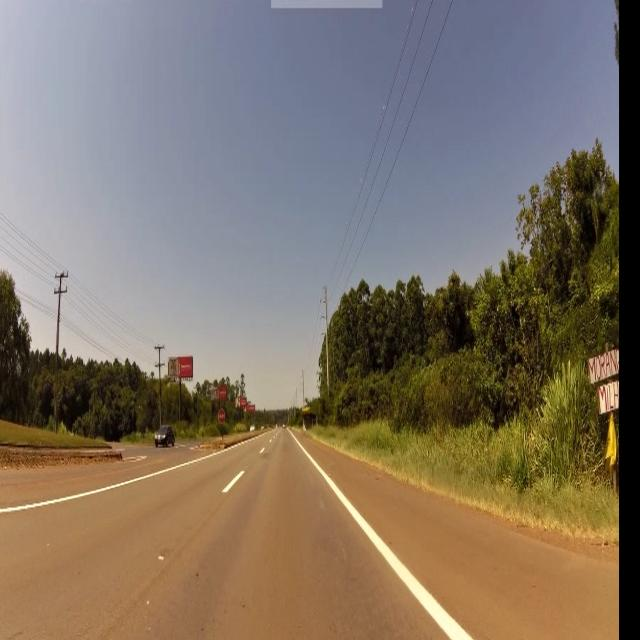R-1: (217, 406, 226, 423)
